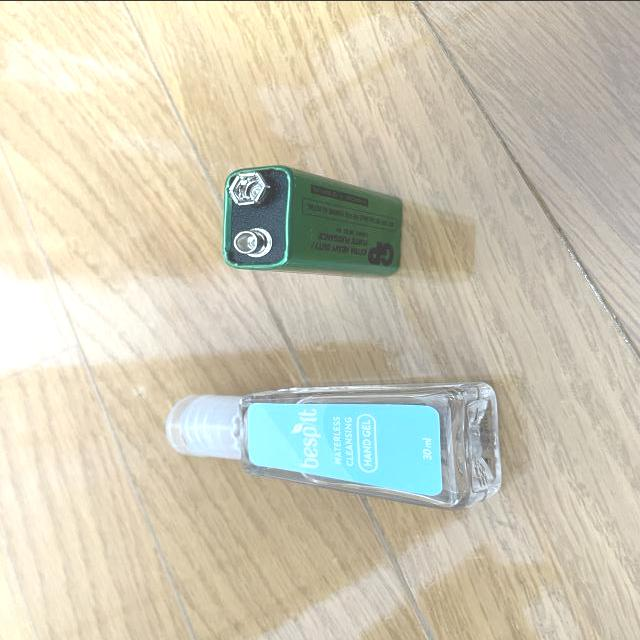9V: (223, 163, 404, 277)
